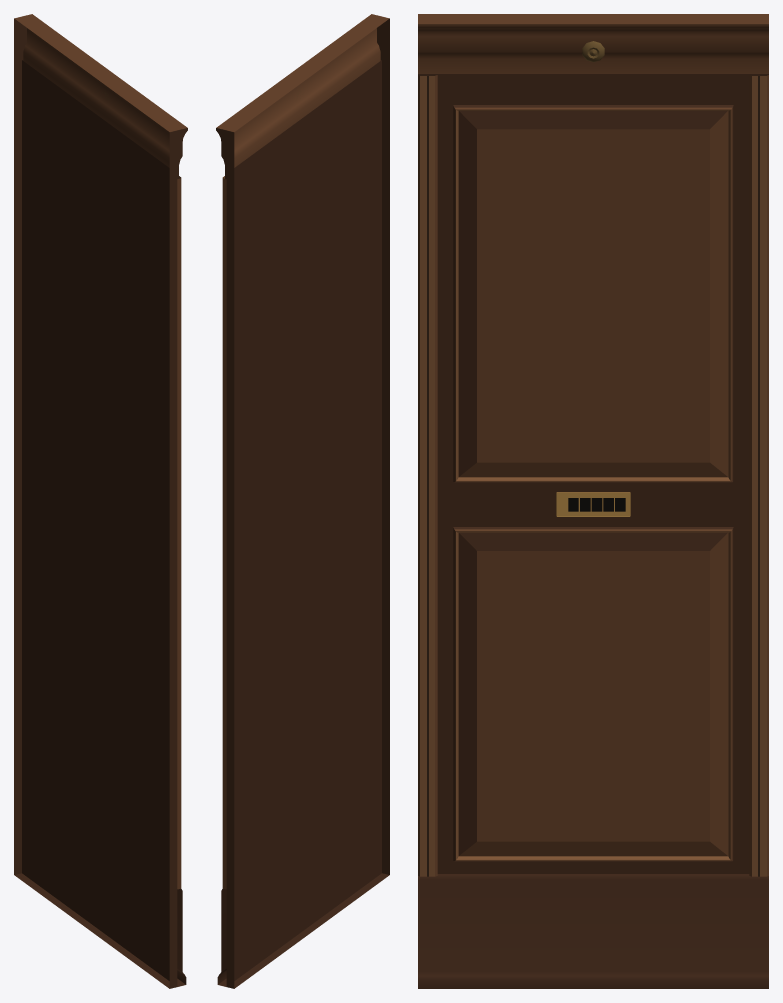
Rendered from bookcase_end.glb.
The picture shows the model from 3 angles, left to right: view 1: azimuth 30°, elevation 25°; view 2: azimuth 150°, elevation 25°; view 3: azimuth 270°, elevation 25°; orthographic projection. The views are drawn at different scales.
Parts seen in each view (by area): view 1: stirnbrett; view 2: stirnbrett; view 3: stirnbrett.
Part boxes in pixels (x1=…): stirnbrett: x1=14, y1=14, x2=187, y2=988; stirnbrett: x1=216, y1=14, x2=389, y2=988; stirnbrett: x1=418, y1=14, x2=768, y2=988.
Size of the model in its own units: 0.07 by 3.16 by 1.04.
